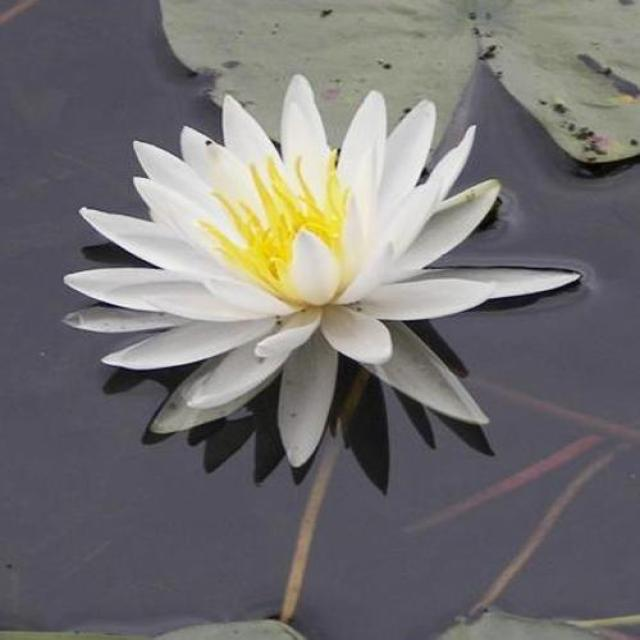rose: (56, 14, 640, 636)
